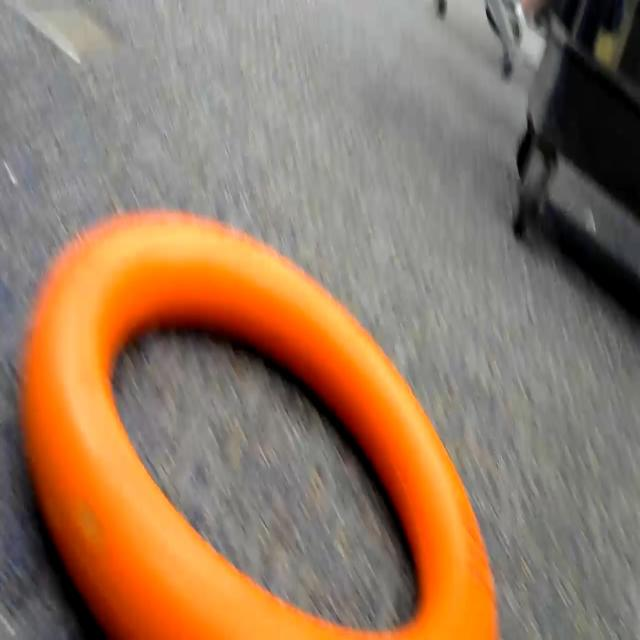note: (0, 210, 501, 640)
